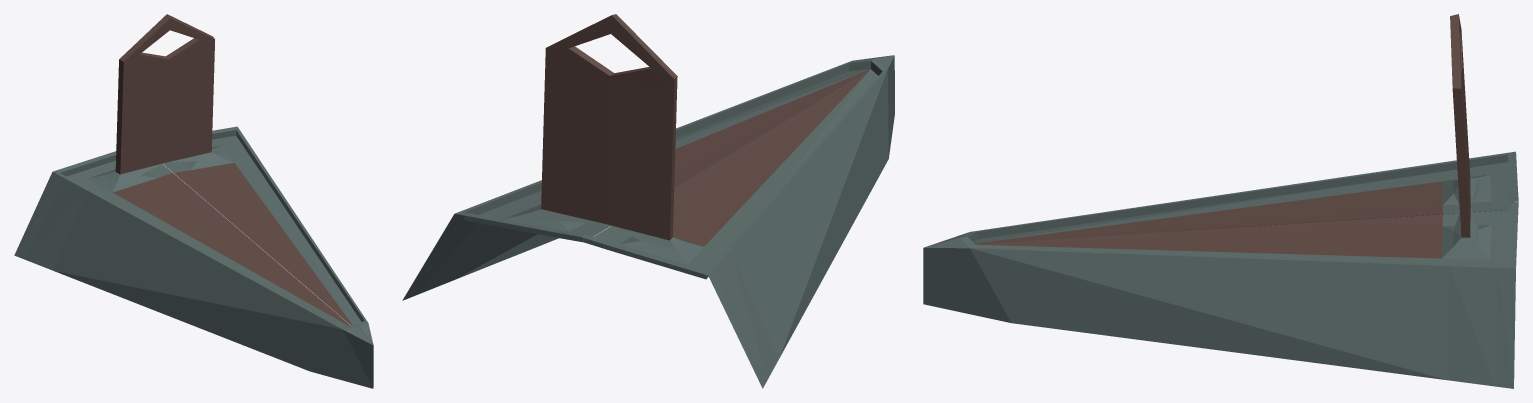
The picture shows the model from 3 angles, left to right: view 1: azimuth 30°, elevation 25°; view 2: azimuth 150°, elevation 25°; view 3: azimuth 270°, elevation 25°; orthographic projection. The views are drawn at different scales.
Visible parts, largest first — view 1: pCone6; view 2: pCone6; view 3: pCone6.
Boxes of the visible parts, left/top/right/bottom form: pCone6: left=14, top=14, right=373, bottom=388; pCone6: left=402, top=14, right=894, bottom=388; pCone6: left=923, top=14, right=1518, bottom=388.
Size of the model in its own units: 1.94 by 1.58 by 2.93.
